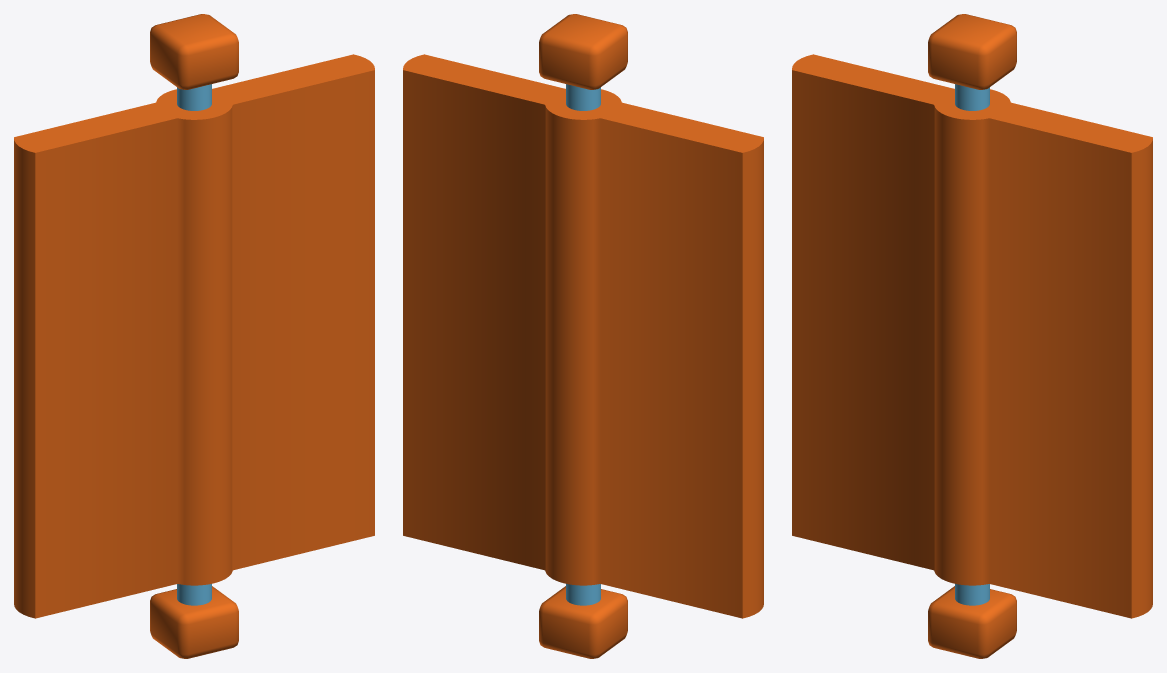
File: door.fbx
The picture shows the model from 3 angles, left to right: view 1: azimuth 30°, elevation 25°; view 2: azimuth 150°, elevation 25°; view 3: azimuth 330°, elevation 25°; orthographic projection.
Visible parts, largest first — view 1: door.001, door.002, door; view 2: door.001, door.002, door; view 3: door.001, door.002, door.
Part boxes in pixels (box(x1,y1,x2,y2)): door.001: box(14, 54, 374, 618); door.002: box(150, 14, 238, 658); door: box(177, 84, 211, 605); door.001: box(403, 54, 763, 618); door.002: box(539, 14, 627, 658); door: box(566, 84, 600, 605); door.001: box(792, 54, 1152, 618); door.002: box(928, 14, 1016, 658); door: box(955, 84, 989, 605).
Size of the model in its own units: 1.73 by 2.89 by 0.3289.
